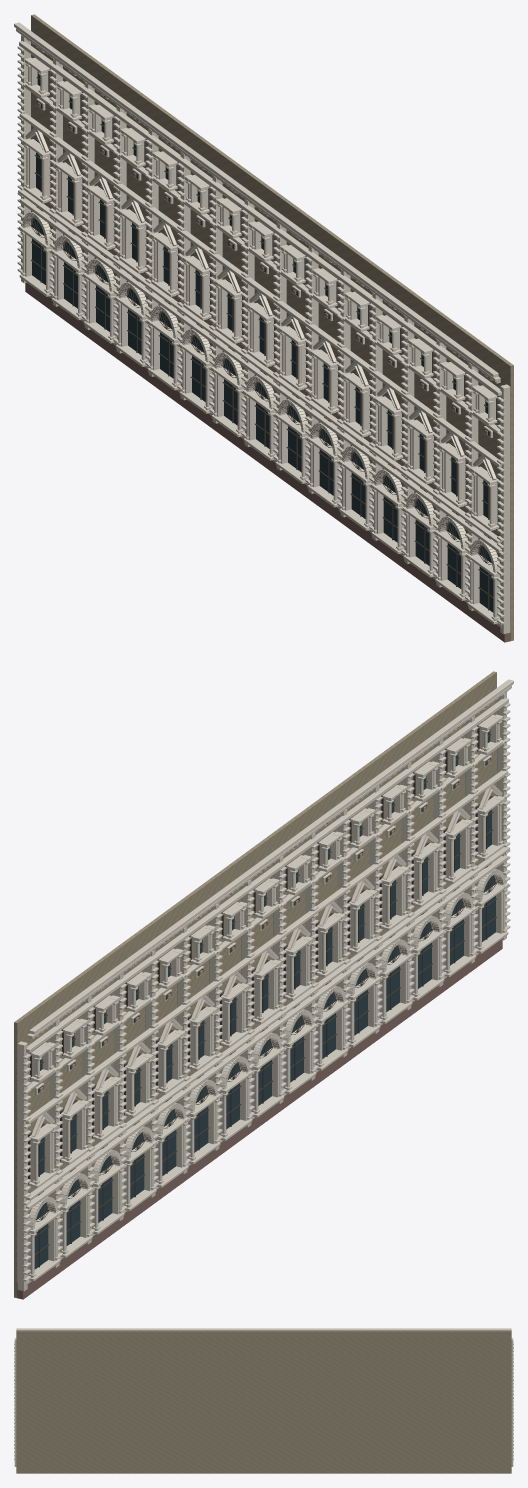
File: gum-detail.glb
3 renders of one model, top to bottom at view 1: azimuth 30°, elevation 25°; view 2: azimuth 150°, elevation 25°; view 3: azimuth 270°, elevation 25°, orthographic. The views are drawn at different scales.
Visible parts, largest first — view 1: GUM | carved pale stone, GUM | textured limestone, GUM | recessed glazing, GUM | pink granite plinth, GUM | bronze window frames, GUM | reveal shadow; view 2: GUM | carved pale stone, GUM | textured limestone, GUM | recessed glazing, GUM | pink granite plinth, GUM | bronze window frames, GUM | reveal shadow; view 3: GUM | textured limestone, GUM | carved pale stone.
Part boxes in pixels (x1,y1,x2,y2): GUM | carved pale stone: [14, 22, 510, 634]; GUM | textured limestone: [31, 14, 513, 640]; GUM | recessed glazing: [32, 72, 498, 612]; GUM | pink granite plinth: [25, 283, 511, 642]; GUM | bronze window frames: [29, 77, 493, 610]; GUM | reveal shadow: [31, 49, 499, 554]; GUM | carved pale stone: [17, 679, 513, 1291]; GUM | textured limestone: [14, 671, 496, 1297]; GUM | recessed glazing: [29, 729, 495, 1269]; GUM | pink granite plinth: [16, 940, 502, 1299]; GUM | bronze window frames: [34, 734, 498, 1267]; GUM | reveal shadow: [28, 703, 496, 1211]; GUM | textured limestone: [16, 1330, 511, 1473]; GUM | carved pale stone: [14, 1328, 513, 1466].
Size of the model in its own units: 1.5 by 19 by 60.55.
Materials: 6 (1 with a texture image).
